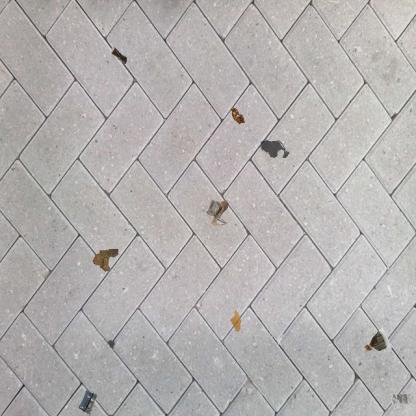dirty: (90, 246, 121, 274), (363, 326, 394, 354), (205, 198, 231, 228), (76, 388, 98, 415), (389, 392, 415, 408), (108, 45, 129, 64), (229, 106, 248, 126)
liquid: (260, 138, 290, 160), (230, 309, 242, 332)
